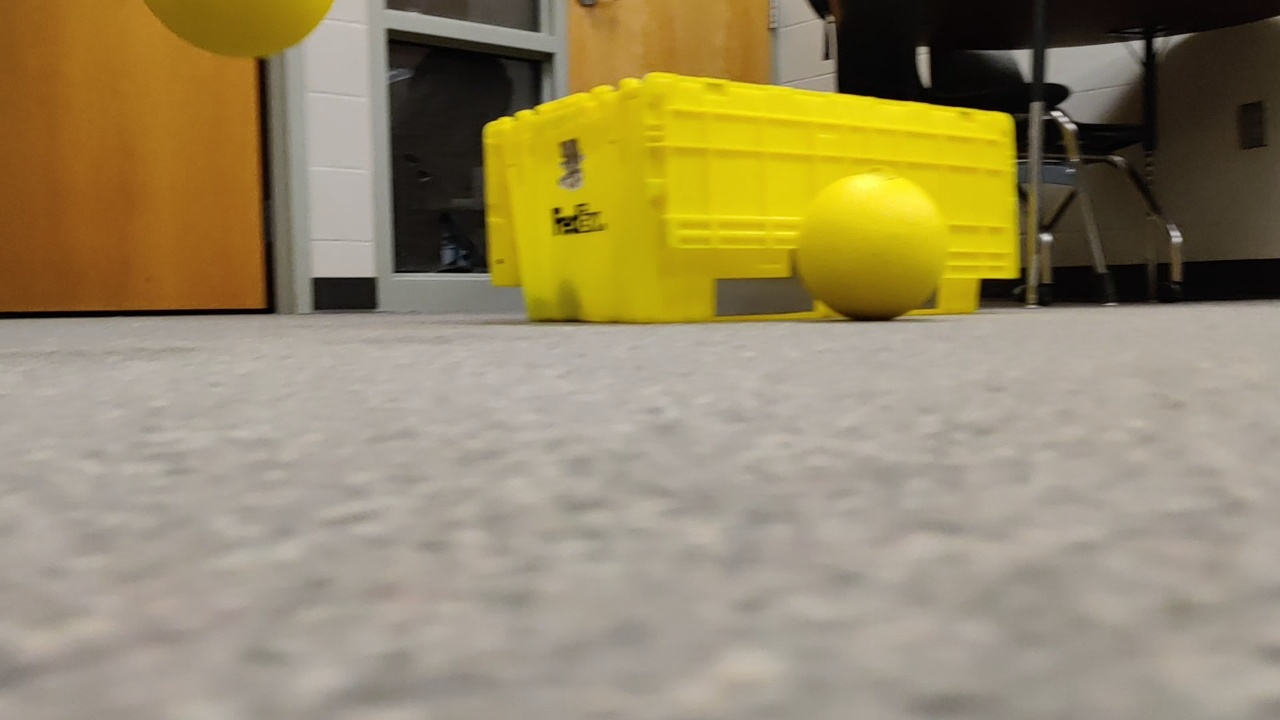Ball: (792, 172, 941, 329), (138, 1, 330, 64)
